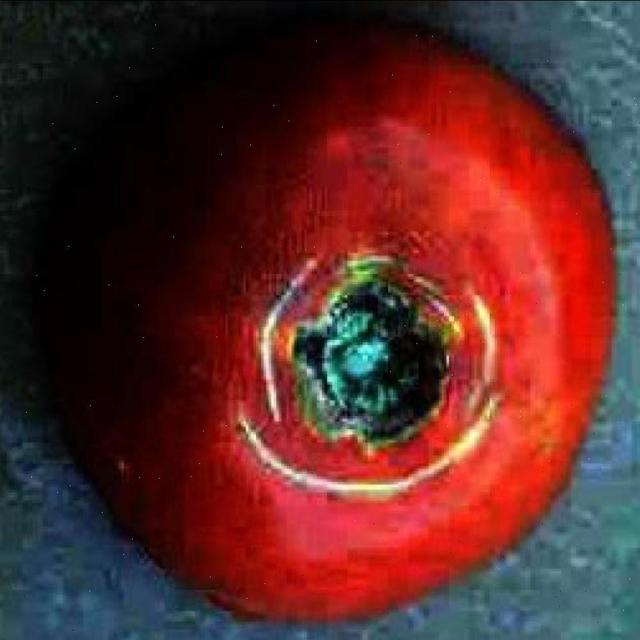Blossom End Rot Fruit: (200, 174, 303, 290)
